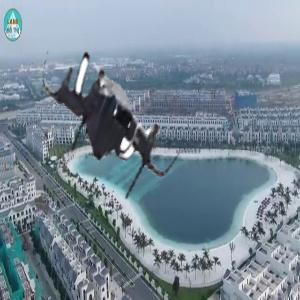drone: (21, 35, 193, 207)
